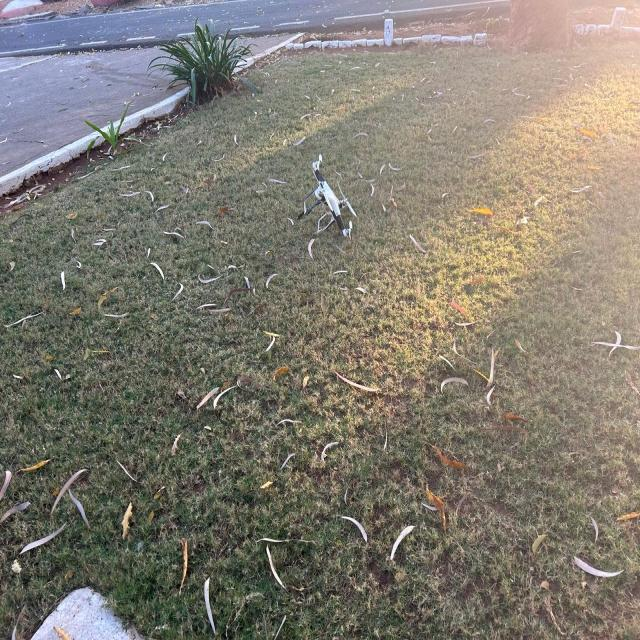drone: (281, 144, 376, 268)
